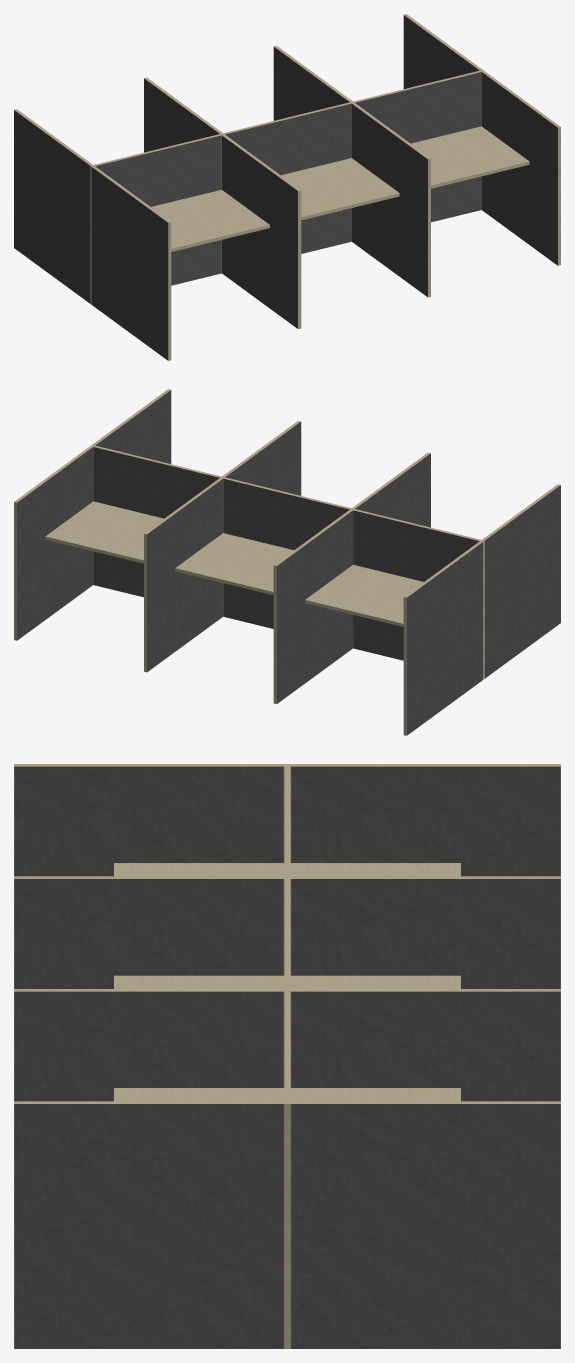
File: office_cubicles.fbx
3 views of the same model, one above another, from view 1: azimuth 30°, elevation 25°; view 2: azimuth 150°, elevation 25°; view 3: azimuth 270°, elevation 25° (orthographic). The views are drawn at different scales.
Visible parts, largest first — view 1: office_cubicles; view 2: office_cubicles; view 3: office_cubicles.
Part boxes in pixels (box(x1,y1,x2,y2)): office_cubicles: box(14, 14, 560, 360); office_cubicles: box(14, 389, 560, 735); office_cubicles: box(14, 764, 560, 1348).
Size of the model in its own units: 378 by 127 by 257.
